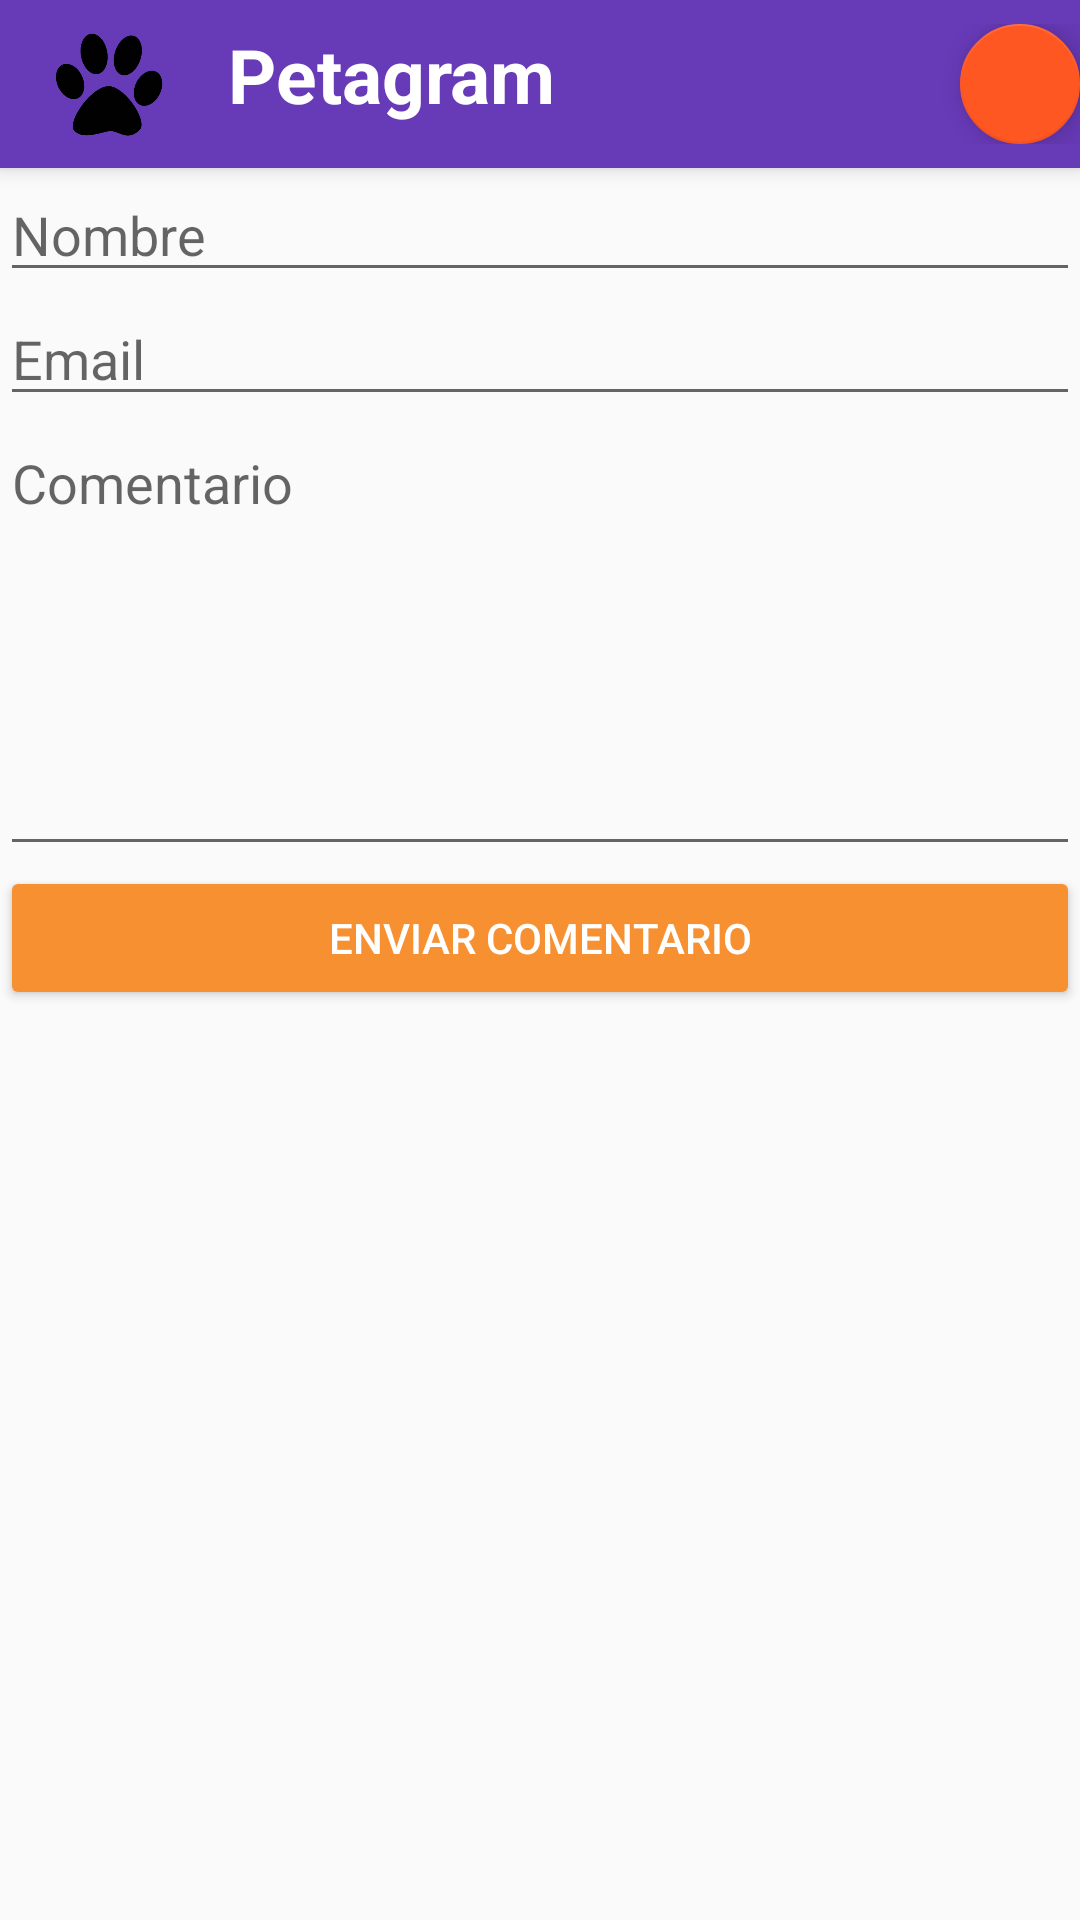

Locate icon controls on the screen. Image size 1080w x 1920h, boxes as [x1,y1,x2,y2].
huella: [56,34,162,136]
